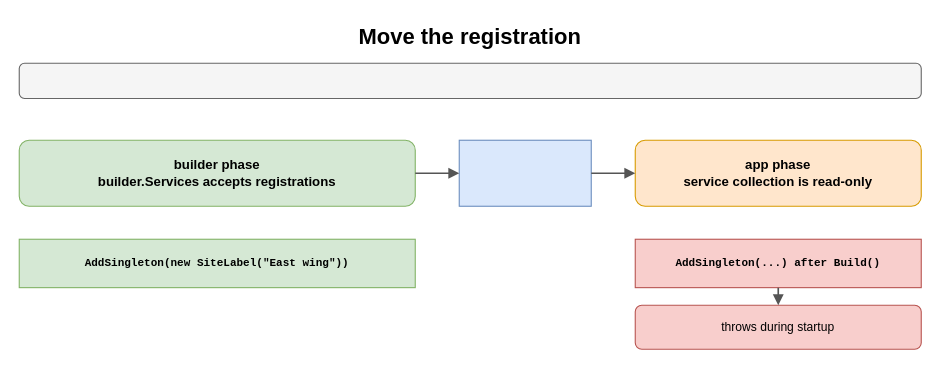
The diagram is 941 pixels wide and 369 high, and some of its shapes have lost their labels. The centre of each missing label's shape, as x and y in pixels:
Build(): [524,172]
builder.Services is writable only until Build(): [469,80]
